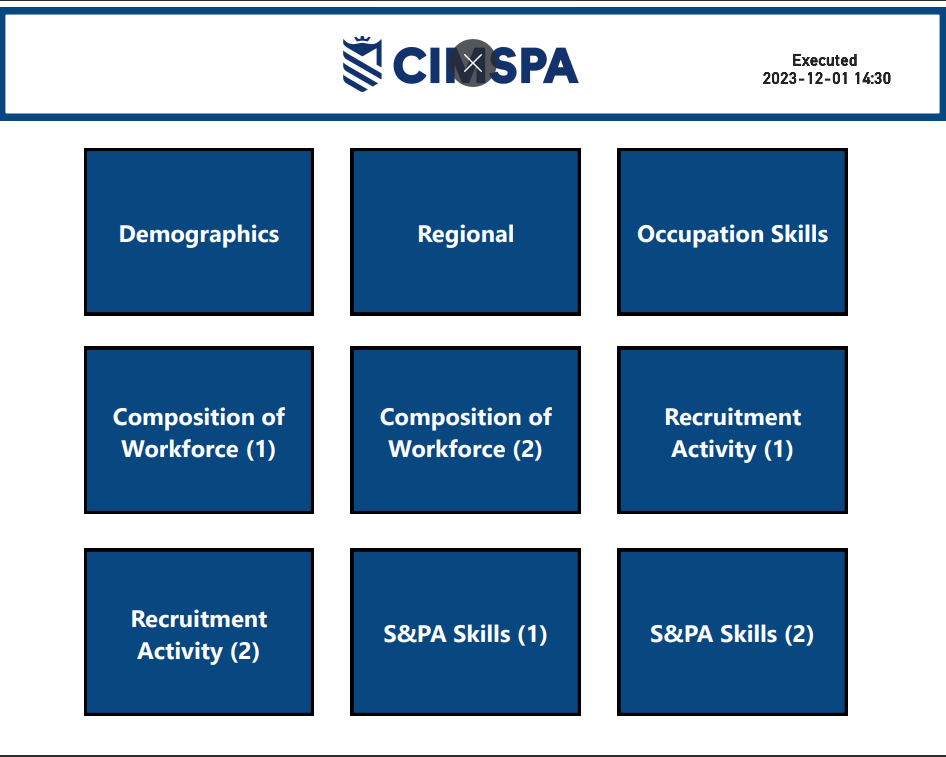

The page's visual inventory and layout, read from the dashboard file:
{"tool":"powerbi","page":{"name":"Main Page","canvas":[1280,1000],"ordinal":0},"visuals":[{"type":"shape","box":[0,0,1280,153.3],"z":0},{"type":"image","box":[435.7,30,377.1,92.9],"z":1000},{"type":"card","fields":{"Values":["# Measures.Executed"]},"box":[1007.1,41.4,220,81.4],"z":2000},{"type":"actionButton","box":[116.7,190.3,310,225],"z":3000},{"type":"actionButton","box":[476.7,190.3,310,225],"z":4000},{"type":"actionButton","box":[835,190.3,310,225],"z":5000},{"type":"actionButton","box":[116.7,458.7,310,225],"z":6000},{"type":"actionButton","box":[476.7,458.7,310,225],"z":7000},{"type":"actionButton","box":[835,458.7,310,225],"z":8000},{"type":"actionButton","box":[116.7,730,310,225],"z":9000},{"type":"actionButton","box":[476.7,730,310,225],"z":10000},{"type":"actionButton","box":[835,730,310,225],"z":11000}]}

Visuals, with their boxes in screenshot pixels (x1, y1, x2, y2), scaled from the page's 1280x1000 canvas onto the 946x757 screenshot:
shape: rect(0, 0, 945, 116)
image: rect(322, 23, 601, 93)
card - # Measures.Executed: rect(744, 31, 907, 93)
actionButton: rect(86, 144, 315, 314)
actionButton: rect(352, 144, 581, 314)
actionButton: rect(617, 144, 846, 314)
actionButton: rect(86, 347, 315, 518)
actionButton: rect(352, 347, 581, 518)
actionButton: rect(617, 347, 846, 518)
actionButton: rect(86, 553, 315, 723)
actionButton: rect(352, 553, 581, 723)
actionButton: rect(617, 553, 846, 723)
